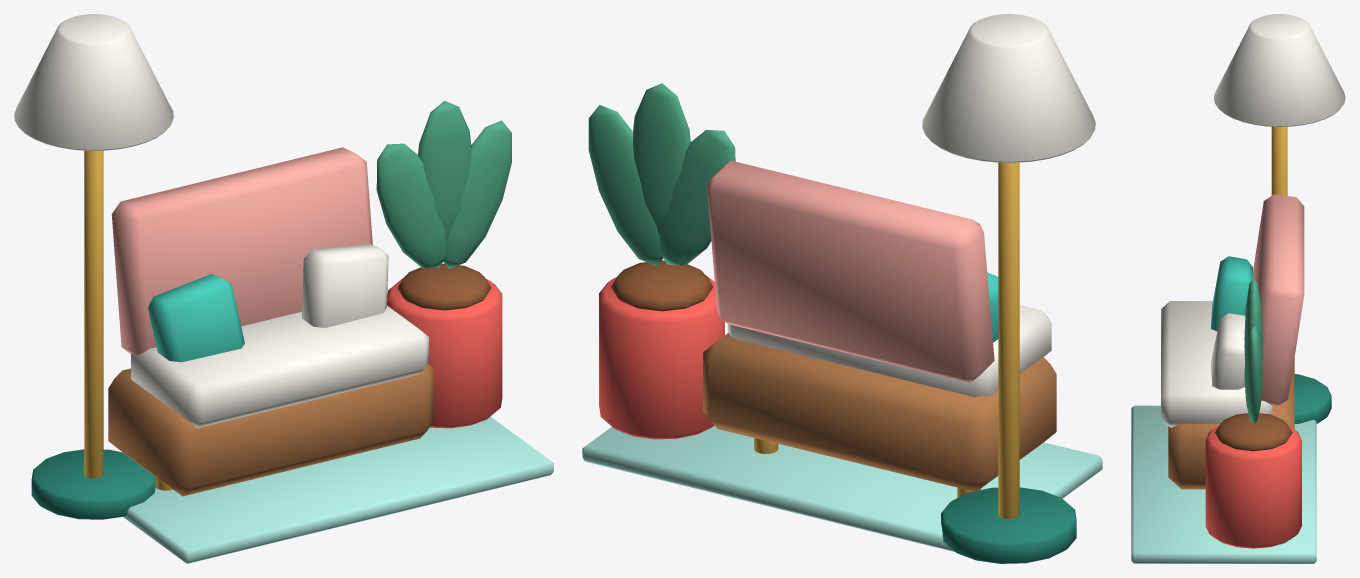
The model's file is comfort.glb.
3 views of the same model, side by side, from view 1: azimuth 30°, elevation 25°; view 2: azimuth 150°, elevation 25°; view 3: azimuth 270°, elevation 25° (orthographic). The views are drawn at different scales.
Visible parts, largest first — view 1: Base_CoralSoft, Base_MintSoft, Base_Cream, Base_Wood, L3_Cream, L2_Leaf, L2_Coral, L3_Gold, L3_MintDark, Base_Mint, L2_Cocoa; view 2: Base_CoralSoft, Base_Wood, Base_MintSoft, L3_Cream, L2_Leaf, L2_Coral, L3_MintDark, L3_Gold, Base_Cream, L2_Cocoa; view 3: Base_MintSoft, L3_Cream, Base_Cream, L2_Coral, Base_CoralSoft, Base_Wood, L2_Leaf, L2_Cocoa, Base_Mint, L3_MintDark, L3_Gold.
Part boxes in pixels (<box>): Base_CoralSoft: <box>111,147,372,354</box>; Base_MintSoft: <box>123,416,553,563</box>; Base_Cream: <box>131,244,428,428</box>; Base_Wood: <box>108,363,433,496</box>; L3_Cream: <box>14,14,173,150</box>; L2_Leaf: <box>376,100,511,268</box>; L2_Coral: <box>387,278,502,428</box>; L3_Gold: <box>84,150,103,478</box>; L3_MintDark: <box>31,449,155,519</box>; Base_Mint: <box>148,274,244,362</box>; L2_Cocoa: <box>397,263,491,310</box>; Base_CoralSoft: <box>706,160,994,382</box>; Base_Wood: <box>703,333,1056,491</box>; Base_MintSoft: <box>582,425,1102,551</box>; L3_Cream: <box>922,14,1095,162</box>; L2_Leaf: <box>588,83,735,266</box>; L2_Coral: <box>599,276,724,439</box>; L3_MintDark: <box>941,487,1076,563</box>; L3_Gold: <box>998,162,1019,518</box>; Base_Cream: <box>727,305,1051,396</box>; L2_Cocoa: <box>611,260,713,311</box>; Base_MintSoft: <box>1131,405,1316,563</box>; L3_Cream: <box>1213,14,1345,126</box>; Base_Cream: <box>1161,301,1272,427</box>; L2_Coral: <box>1205,425,1301,548</box>; Base_CoralSoft: <box>1253,194,1304,406</box>; Base_Wood: <box>1168,358,1294,489</box>; L2_Leaf: <box>1244,278,1262,423</box>; L2_Cocoa: <box>1215,413,1292,451</box>; Base_Mint: <box>1211,256,1252,331</box>; L3_MintDark: <box>1294,374,1331,423</box>; L3_Gold: <box>1271,126,1287,195</box>.
Size of the model in its own units: 1.21 by 1.16 by 0.5779.
